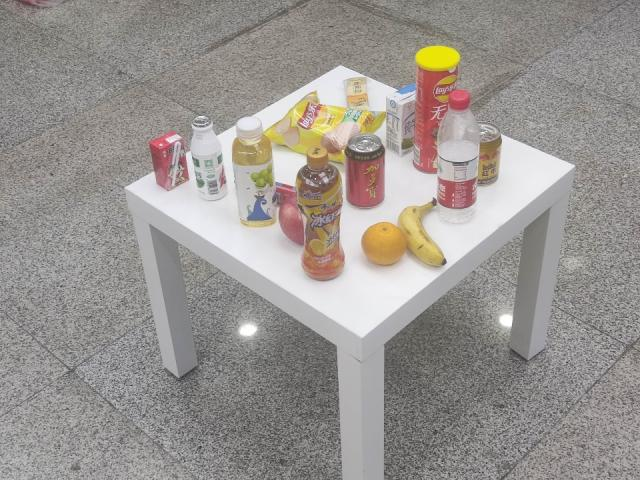Canned_drinks: (344, 132, 387, 208), (471, 117, 502, 189)
bottle: (429, 84, 484, 226)
cylinder: (407, 44, 462, 173)
drink_box: (382, 80, 423, 157), (144, 128, 192, 192)
